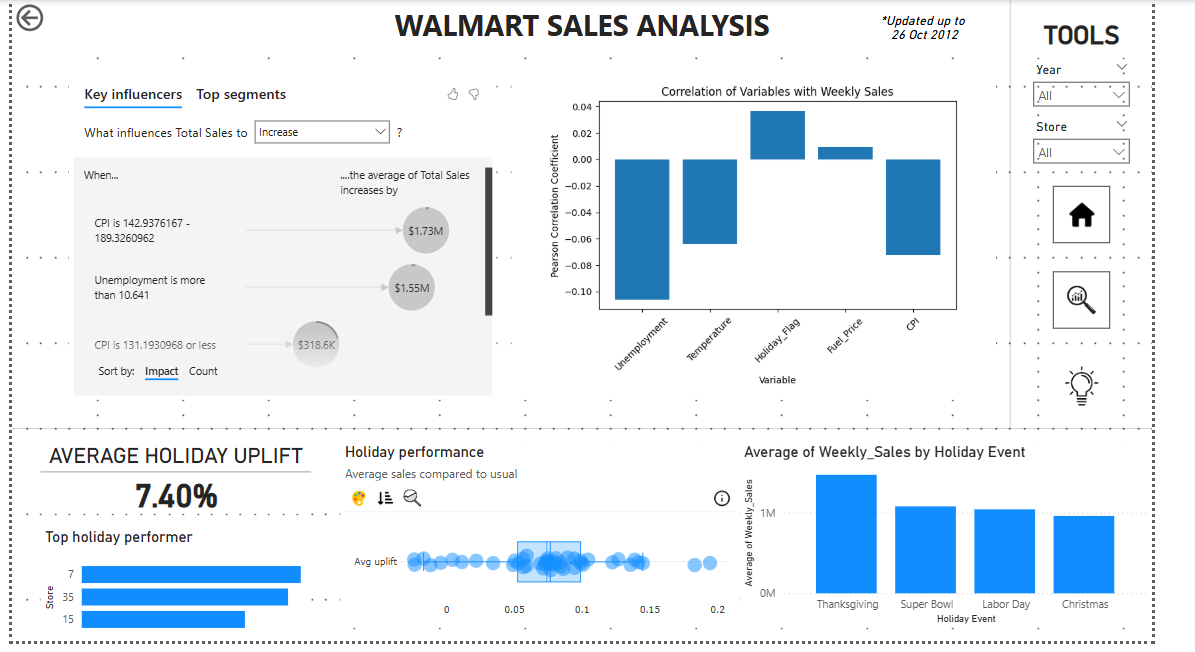

The page's visual inventory and layout, read from the dashboard file:
{"tool":"powerbi","page":{"name":"Page 2","canvas":[1280,720],"ordinal":1},"visuals":[{"type":"textbox","box":[0,0,1280,64],"z":0},{"type":"keyDriversVisual","fields":{"ExplainBy":["Walmart.Fuel_Price","Walmart.CPI","Walmart.Unemployment","Walmart.Temperature"],"Target":["_SalesMeasure.Total Sales"]},"box":[64,80,480,368],"z":1000},{"type":"boxandwhiskerwithpoints6C29D629F202A5FF5B6B023486584FCA","title":"Holiday performance","fields":{"col_5":["Holiday_Uplift.Store"],"col_2":["_SalesMeasure.Avg uplift"]},"box":[368,496,448,208],"z":2000},{"type":"slicer","fields":{"Values":["Date.Year"]},"box":[1136,64,128,80],"z":3000},{"type":"slicer","fields":{"Values":["Walmart.Store"]},"box":[1136,128,128,80],"z":4000},{"type":"image","box":[1168,208,64,64],"z":5000},{"type":"shape","box":[0,474,1280,16],"z":6000},{"type":"shape","box":[1104,0,32,480],"z":7000},{"type":"image","box":[1168,304,64,64],"z":8000},{"type":"image","box":[1168,400,64,64],"z":9000},{"type":"textbox","box":[1136,16,128,48],"z":10000},{"type":"card","fields":{"Values":["_SalesMeasure.m_UpdatedUpTo"]},"box":[960,0,128,64],"z":11000},{"type":"card","title":"AVERAGE HOLIDAY UPLIFT","fields":{"Values":["Holiday_Uplift.AvgUpliftAll"]},"box":[32,496,304,80],"z":12000},{"type":"clusteredBarChart","title":"Top holiday performer","fields":{"Y":["Max(Holiday_Uplift.AvgUplift)"],"Category":["Holiday_Uplift.Store"]},"box":[32,592,304,128],"z":13000},{"type":"clusteredColumnChart","fields":{"Category":["Date.Holiday_Event"],"Y":["Avg(Walmart.Weekly_Sales)"]},"box":[816,496,464,208],"z":14000},{"type":"actionButton","box":[0,0,100,40],"z":15000},{"type":"pythonVisual","fields":{"Values":["Walmart.Weekly_Sales","Walmart.Unemployment","Walmart.Temperature","Walmart.Holiday_Flag","Walmart.Fuel_Price","Walmart.CPI"]},"box":[560,80,544,368],"z":16000}]}

Visuals, with their boxes on the page's 1280x720 design canvas (x1, y1, x2, y2). These are canvas units, not pixel positions in the 1195x652 screenshot, which may show the page scaled, cropped or inside an application window:
textbox: left=0, top=0, right=1280, bottom=64
keyDriversVisual - Walmart.Fuel_Price x Walmart.CPI: left=64, top=80, right=544, bottom=448
"Holiday performance" boxandwhiskerwithpoints6C29D629F202A5FF5B6B023486584FCA: left=368, top=496, right=816, bottom=704
slicer - Date.Year: left=1136, top=64, right=1264, bottom=144
slicer - Walmart.Store: left=1136, top=128, right=1264, bottom=208
image: left=1168, top=208, right=1232, bottom=272
shape: left=0, top=474, right=1280, bottom=490
shape: left=1104, top=0, right=1136, bottom=480
image: left=1168, top=304, right=1232, bottom=368
image: left=1168, top=400, right=1232, bottom=464
textbox: left=1136, top=16, right=1264, bottom=64
card - _SalesMeasure.m_UpdatedUpTo: left=960, top=0, right=1088, bottom=64
"AVERAGE HOLIDAY UPLIFT" card: left=32, top=496, right=336, bottom=576
"Top holiday performer" clusteredBarChart: left=32, top=592, right=336, bottom=720
clusteredColumnChart - Date.Holiday_Event x Avg(Walmart.Weekly_Sales): left=816, top=496, right=1280, bottom=704
actionButton: left=0, top=0, right=100, bottom=40
pythonVisual - Walmart.Weekly_Sales x Walmart.Unemployment: left=560, top=80, right=1104, bottom=448
